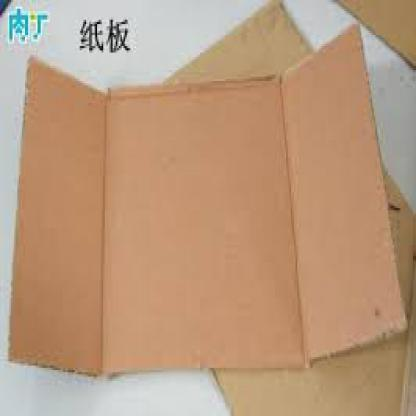CARDBOARD: (6, 22, 405, 370), (155, 0, 414, 414), (100, 72, 305, 366), (282, 22, 405, 359), (6, 50, 100, 368), (336, 0, 414, 68)
